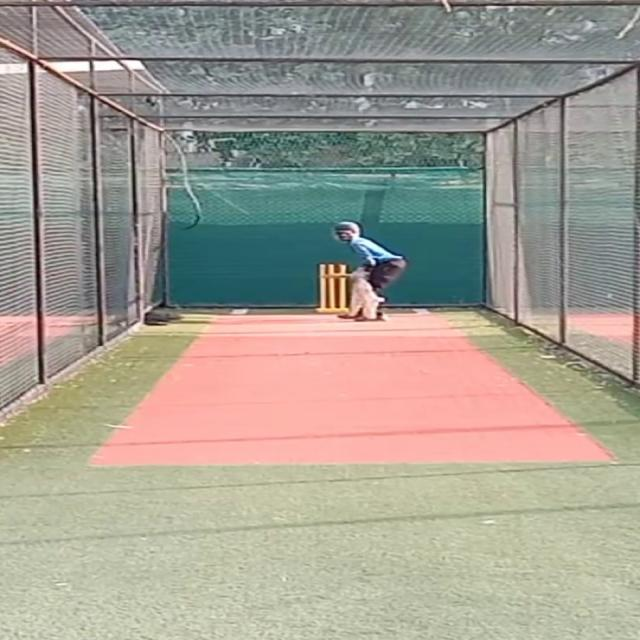stump: (313, 261, 347, 314)
